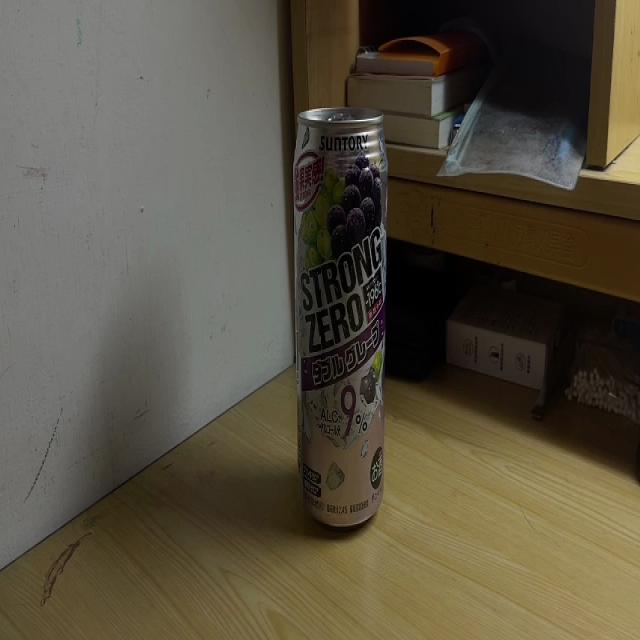Liquor: (292, 102, 389, 530)
